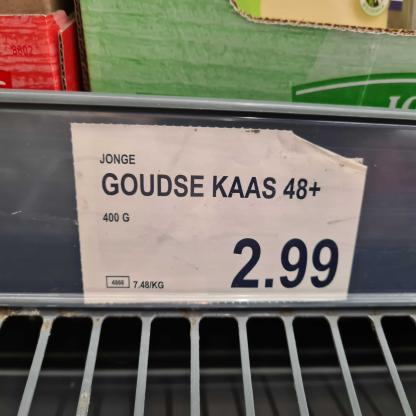prtg: (70, 122, 373, 305)
